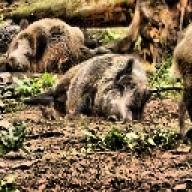boar: (169, 19, 192, 142)
